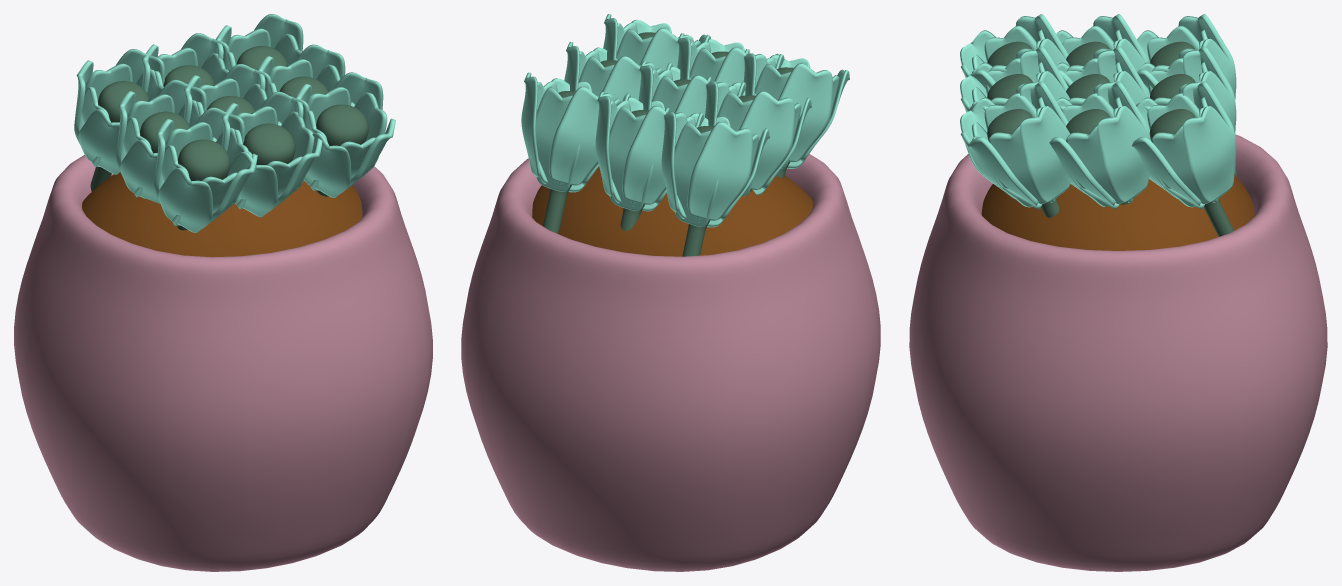
File: TULIPAN¡.fbx
3 renders of one model, left to right at view 1: azimuth 30°, elevation 25°; view 2: azimuth 150°, elevation 25°; view 3: azimuth 270°, elevation 25°, orthographic.
Parts seen in each view (by area): view 1: Plane.020; view 2: Plane.020; view 3: Plane.020.
Part boxes in pixels (box(x1,y1,x2,y2)): Plane.020: box(14, 14, 432, 571); Plane.020: box(461, 14, 880, 571); Plane.020: box(909, 14, 1327, 571).
Size of the model in its own units: 31.43 by 38.6 by 31.43.
